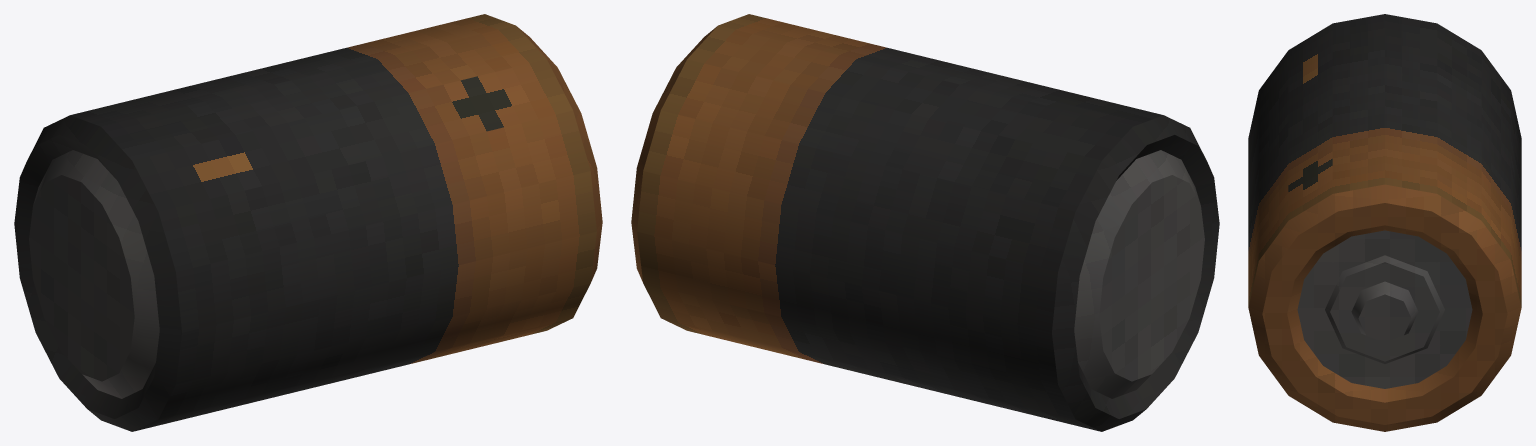
Rendered from battery_mp_2.glb.
3 renders of one model, left to right at view 1: azimuth 30°, elevation 25°; view 2: azimuth 150°, elevation 25°; view 3: azimuth 270°, elevation 25°, orthographic. The views are drawn at different scales.
Parts seen in each view (by area): view 1: battery_mp_2; view 2: battery_mp_2; view 3: battery_mp_2.
Part boxes in pixels (x1=…): battery_mp_2: x1=14, y1=14, x2=602, y2=431; battery_mp_2: x1=631, y1=14, x2=1219, y2=431; battery_mp_2: x1=1248, y1=14, x2=1521, y2=431.
Bounding box in the file's own units: 0.0883 × 0.054 × 0.054.
1 material, 1 textured.
